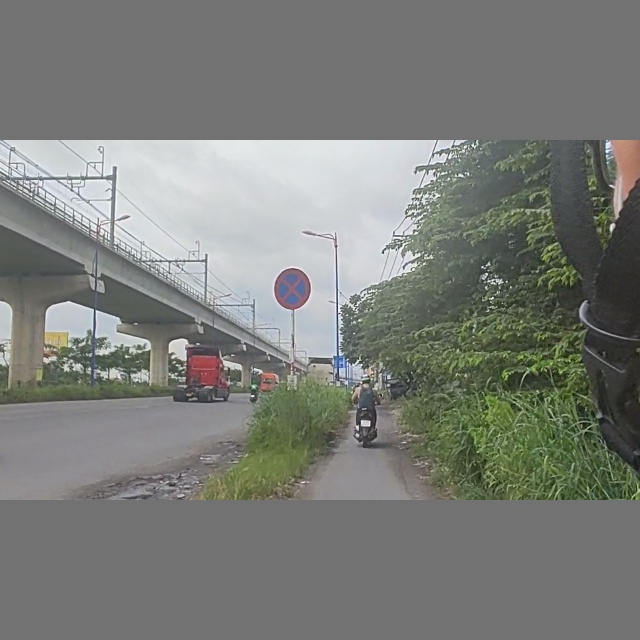P.130: (271, 266, 315, 311)
